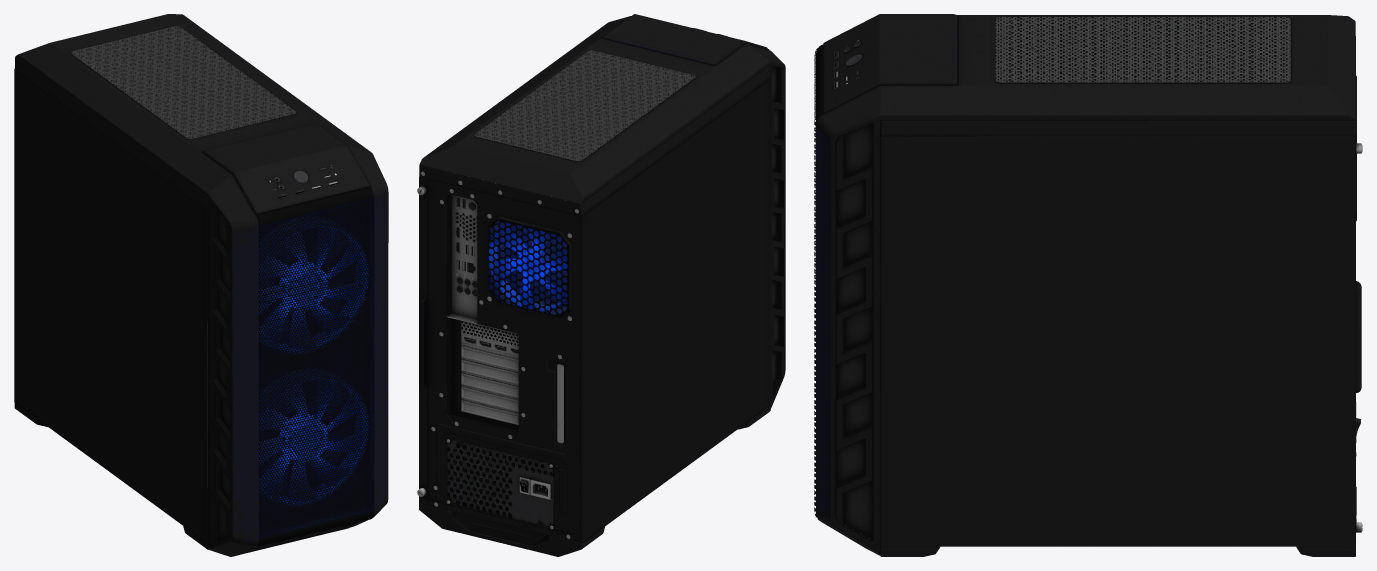
Rendered from computer1.gltf.
3 views of the same model, side by side, from view 1: azimuth 30°, elevation 25°; view 2: azimuth 150°, elevation 25°; view 3: azimuth 270°, elevation 25° (orthographic). The views are drawn at different scales.
Parts seen in each view (by area): view 1: SM_Computer02; view 2: SM_Computer02; view 3: SM_Computer02.
Part boxes in pixels (left/top/right/bottom): SM_Computer02: left=14, top=14, right=388, bottom=556; SM_Computer02: left=417, top=14, right=785, bottom=556; SM_Computer02: left=814, top=14, right=1362, bottom=556.
Size of the model in its own units: 0.2265 by 0.502 by 0.525.
1 material, 1 textured.
